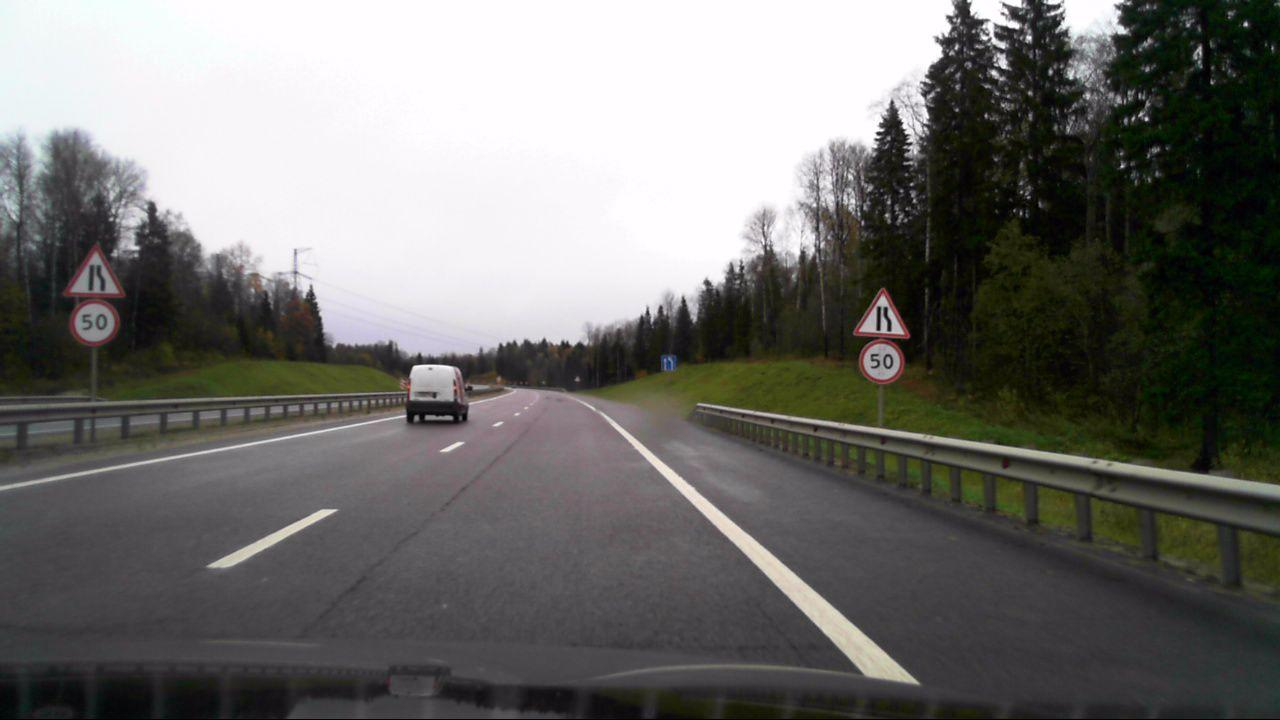1_20_2: (62, 238, 125, 299), (854, 286, 910, 338)
3_24: (857, 338, 908, 382), (71, 301, 120, 344)
5_15_5: (660, 354, 677, 372)
